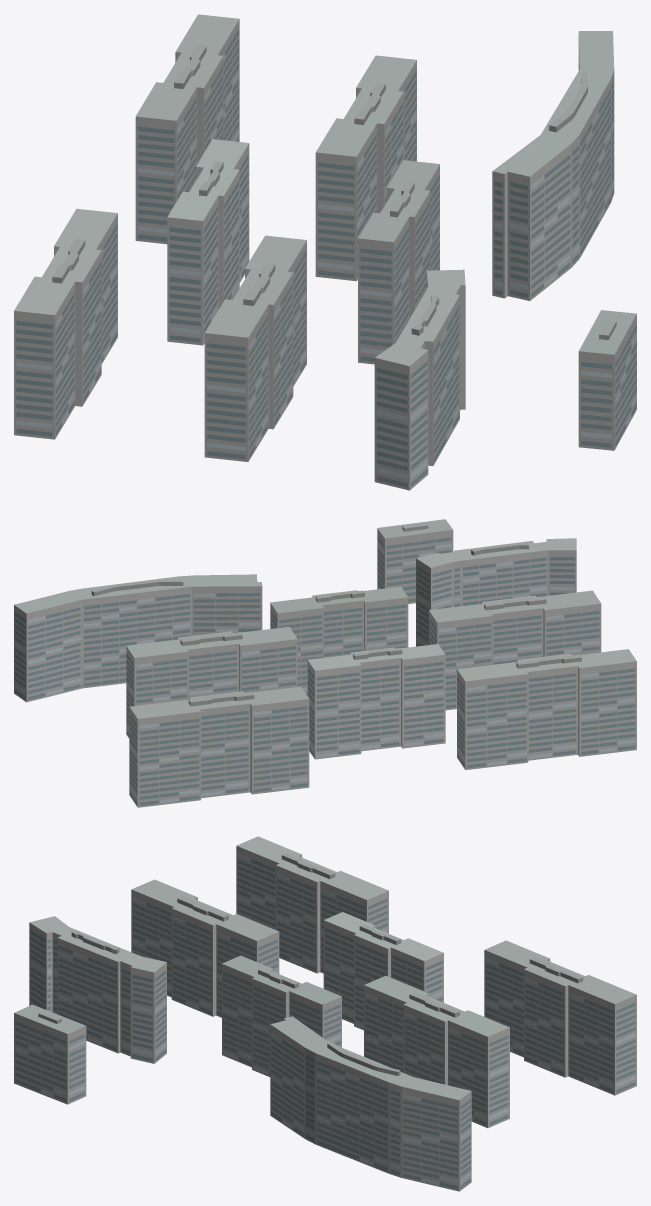
The model's file is apt-a13310004.glb.
3 views of the same model, one above another, from view 1: azimuth 30°, elevation 25°; view 2: azimuth 150°, elevation 25°; view 3: azimuth 270°, elevation 25° (orthographic). The views are drawn at different scales.
Visible parts, largest first — view 1: apt-a13310004; view 2: apt-a13310004; view 3: apt-a13310004.
Boxes of the visible parts, x1,y1,x2,y2 form: apt-a13310004: [14, 14, 636, 490]; apt-a13310004: [14, 519, 636, 807]; apt-a13310004: [14, 836, 636, 1191].
Bounding box in the file's own units: 283 × 47.81 × 283.
